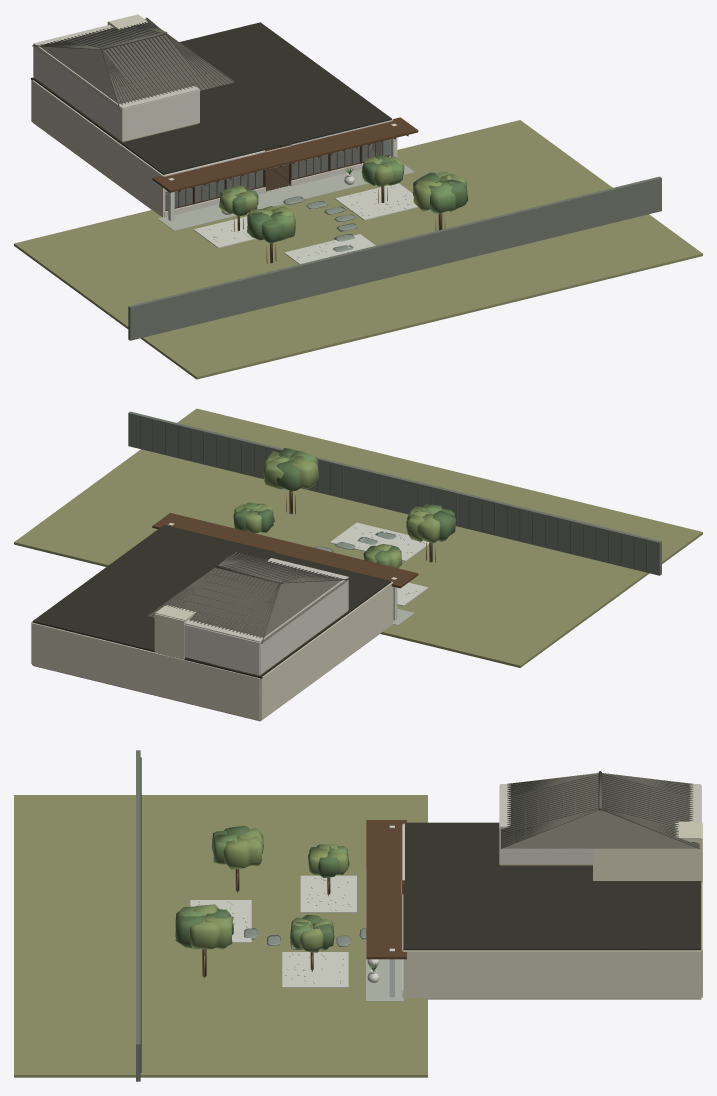
The model's file is yeongsanpo-literature.glb.
The picture shows the model from 3 angles, top to bottom: view 1: azimuth 30°, elevation 25°; view 2: azimuth 150°, elevation 25°; view 3: azimuth 270°, elevation 25°; orthographic projection. The views are drawn at different scales.
Parts seen in each view (by area): view 1: window_garden_ground, window_garden_boundary_wall, cutaway_east_room_ceiling, attic_roof, museum-wall_side, veranda_exterior_eave_soffit, attic_wall, cutaway_corridor_ceiling, window_garden_paved_apron, cutaway_closed_ceiling_west_front, attic_wall_end.001, window_garden_gravel_bed.001 (+5 smaller); view 2: window_garden_ground, window_garden_boundary_wall, cutaway_east_room_ceiling, museum-wall_back, attic_roof, museum-wall_side, veranda_exterior_eave_soffit, attic_wall, attic_wall_end, window_garden_gravel_bed.002, cutaway_corridor_ceiling, attic_stairwell_end (+4 smaller); view 3: window_garden_ground, cutaway_east_room_ceiling, museum-wall_side.001, attic_roof, veranda_exterior_eave_soffit, attic_stairwell_east, cutaway_closed_ceiling_west_front, cutaway_corridor_ceiling, window_garden_gravel_bed.001, window_garden_gravel_bed, window_garden_boundary_wall, attic_wall_door_opening (+10 smaller).
Part boxes in pixels (x1=…): window_garden_ground: x1=14, y1=120, x2=702, y2=379; window_garden_boundary_wall: x1=128, y1=176, x2=661, y2=340; cutaway_east_room_ceiling: x1=179, y1=22, x2=391, y2=146; attic_roof: x1=34, y1=18, x2=233, y2=109; museum-wall_side: x1=31, y1=80, x2=165, y2=217; veranda_exterior_eave_soffit: x1=152, y1=117, x2=418, y2=192; attic_wall: x1=33, y1=45, x2=122, y2=140; cutaway_corridor_ceiling: x1=142, y1=130, x2=279, y2=174; window_garden_paved_apron: x1=157, y1=163, x2=414, y2=230; cutaway_closed_ceiling_west_front: x1=121, y1=113, x2=258, y2=159; attic_wall_end.001: x1=122, y1=90, x2=199, y2=141; window_garden_gravel_bed.001: x1=335, y1=183, x2=417, y2=220; window_garden_ground: x1=14, y1=408, x2=702, y2=667; window_garden_boundary_wall: x1=128, y1=411, x2=661, y2=575; cutaway_east_room_ceiling: x1=32, y1=525, x2=275, y2=649; museum-wall_back: x1=32, y1=622, x2=260, y2=720; attic_roof: x1=148, y1=552, x2=348, y2=643; museum-wall_side: x1=260, y1=582, x2=393, y2=719; veranda_exterior_eave_soffit: x1=152, y1=513, x2=418, y2=588; attic_wall: x1=260, y1=578, x2=348, y2=674; attic_wall_end: x1=184, y1=624, x2=259, y2=675; window_garden_gravel_bed.002: x1=329, y1=522, x2=429, y2=561; cutaway_corridor_ceiling: x1=266, y1=552, x2=391, y2=597; attic_stairwell_end: x1=154, y1=613, x2=185, y2=659; window_garden_ground: x1=14, y1=795, x2=427, y2=1077; cutaway_east_room_ceiling: x1=403, y1=887, x2=701, y2=950; museum-wall_side.001: x1=403, y1=950, x2=701, y2=998; attic_roof: x1=501, y1=774, x2=699, y2=848; veranda_exterior_eave_soffit: x1=366, y1=820, x2=406, y2=959; attic_stairwell_east: x1=595, y1=840, x2=699, y2=880; cutaway_closed_ceiling_west_front: x1=452, y1=822, x2=503, y2=886; cutaway_corridor_ceiling: x1=405, y1=822, x2=454, y2=949; window_garden_gravel_bed.001: x1=282, y1=952, x2=348, y2=987; window_garden_gravel_bed: x1=300, y1=875, x2=356, y2=912; window_garden_boundary_wall: x1=136, y1=750, x2=140, y2=1081; attic_wall_door_opening: x1=502, y1=828, x2=592, y2=864.
Size of the model in its own units: 42 by 7.76 by 41.6.
Materials: 147 (19 with a texture image).
